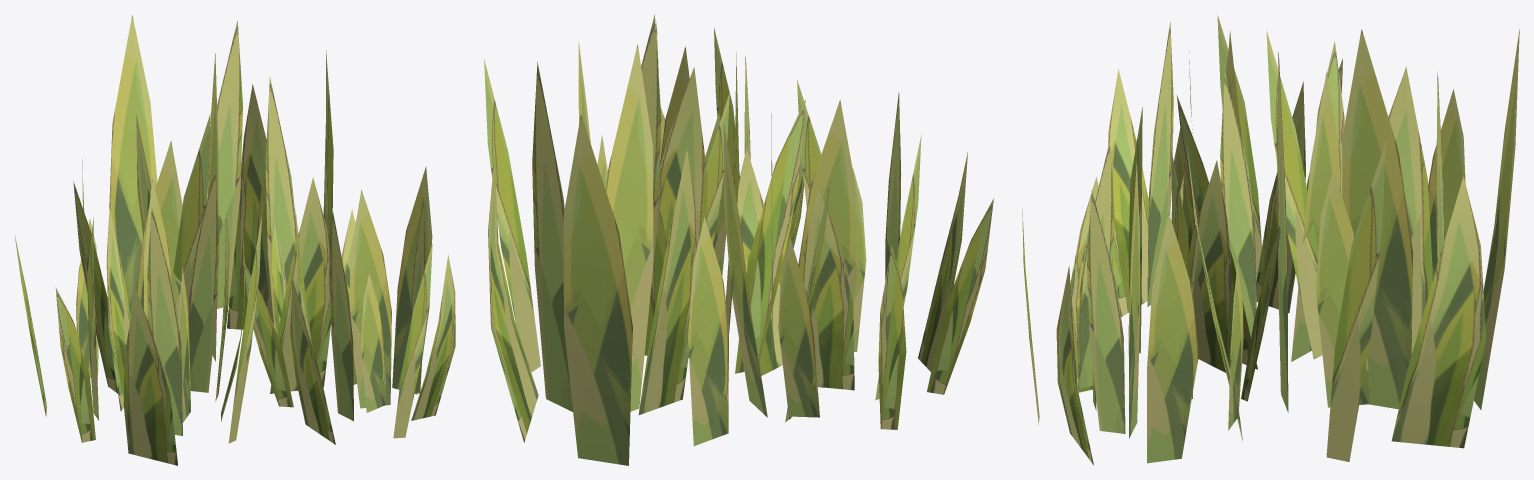
The model's file is smGrassMid.fbx.
The picture shows the model from 3 angles, left to right: view 1: azimuth 30°, elevation 25°; view 2: azimuth 150°, elevation 25°; view 3: azimuth 270°, elevation 25°; orthographic projection. The views are drawn at different scales.
Visible parts, largest first — view 1: GrassMid; view 2: GrassMid; view 3: GrassMid.
Boxes of the visible parts, x1,y1,x2,y2 form: GrassMid: (14,15,455,465); GrassMid: (484,14,993,465); GrassMid: (1022,15,1519,465).
Bounding box in the file's own units: 46.91 × 39.96 × 46.42.
